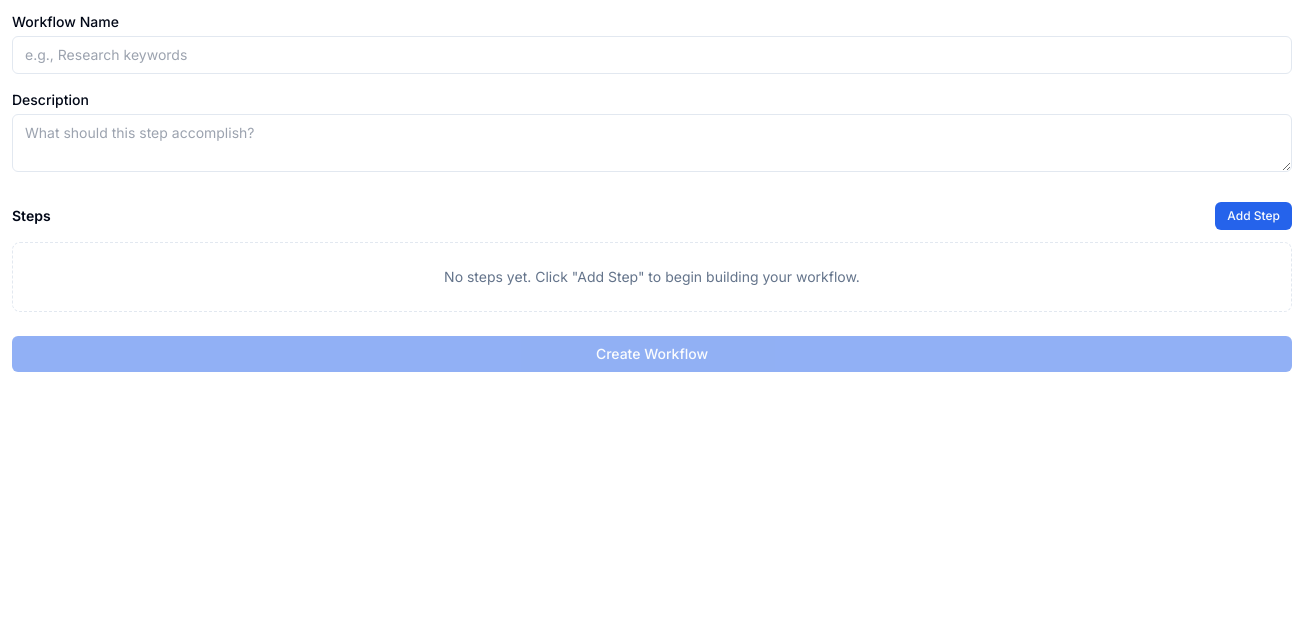
it: WorkflowBuilder › submit button becomes disabled when step has validation error
The width and height of the screenshot is (1304, 633).
Type "My Workflow" into the field named "Workflow name". click: (652, 55)
box: [12,36,1292,74]
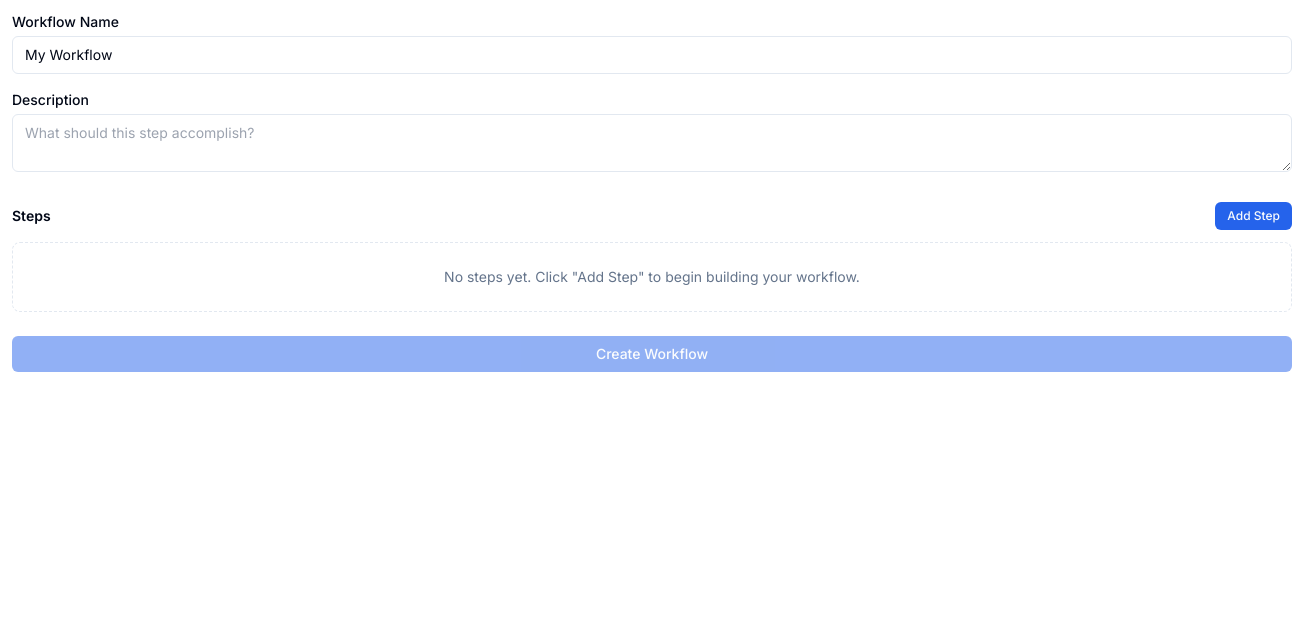
Click the button "Add Step". click: (1254, 216)
box: [1215,202,1292,230]
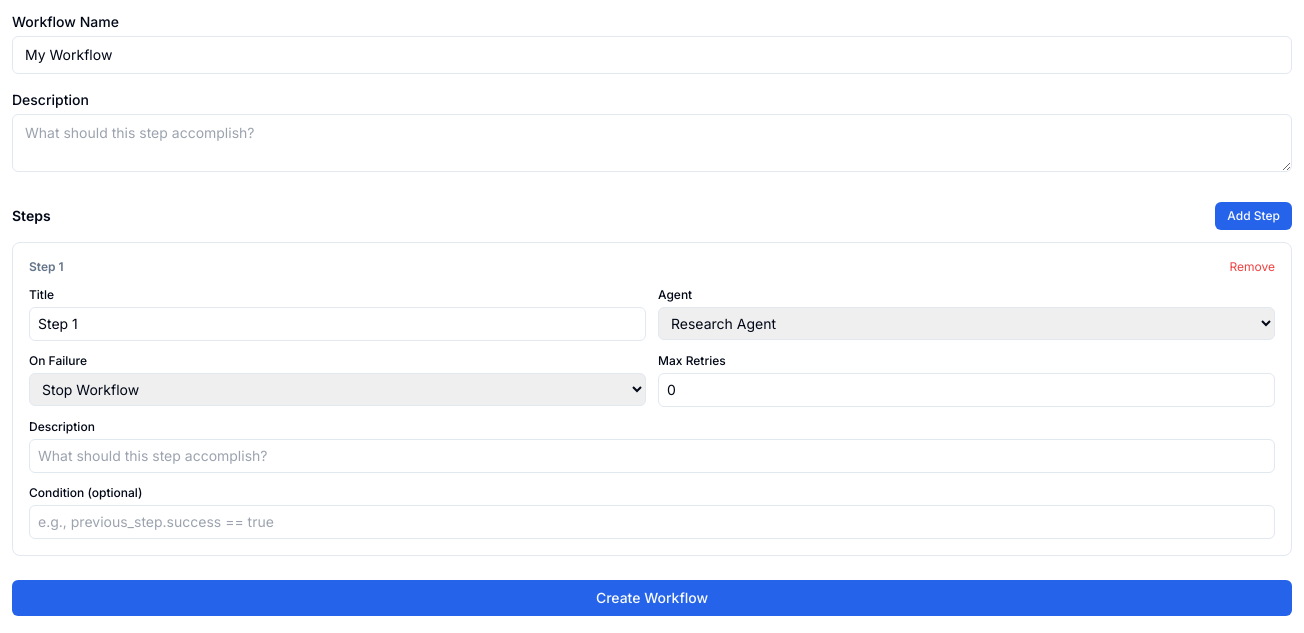
Clear the field named "Step 1 title". click: (338, 324)
box: [29,307,646,341]
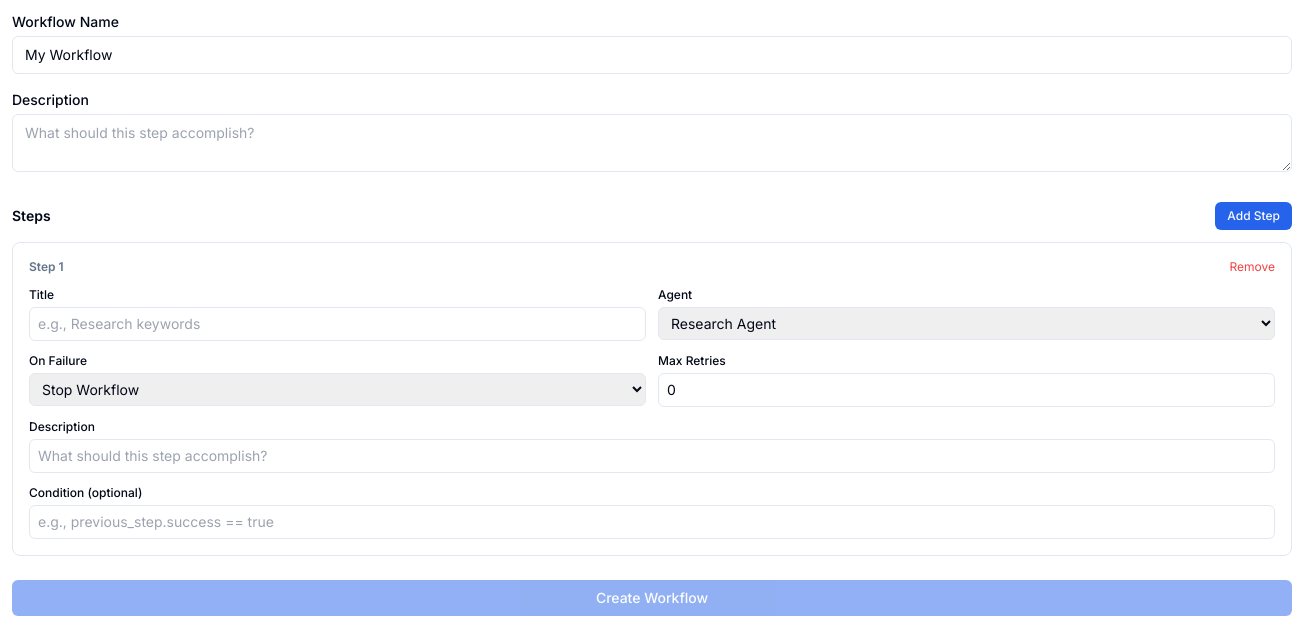
Check: the button "Create Workflow" is disabled, box [12,580,1292,616]
